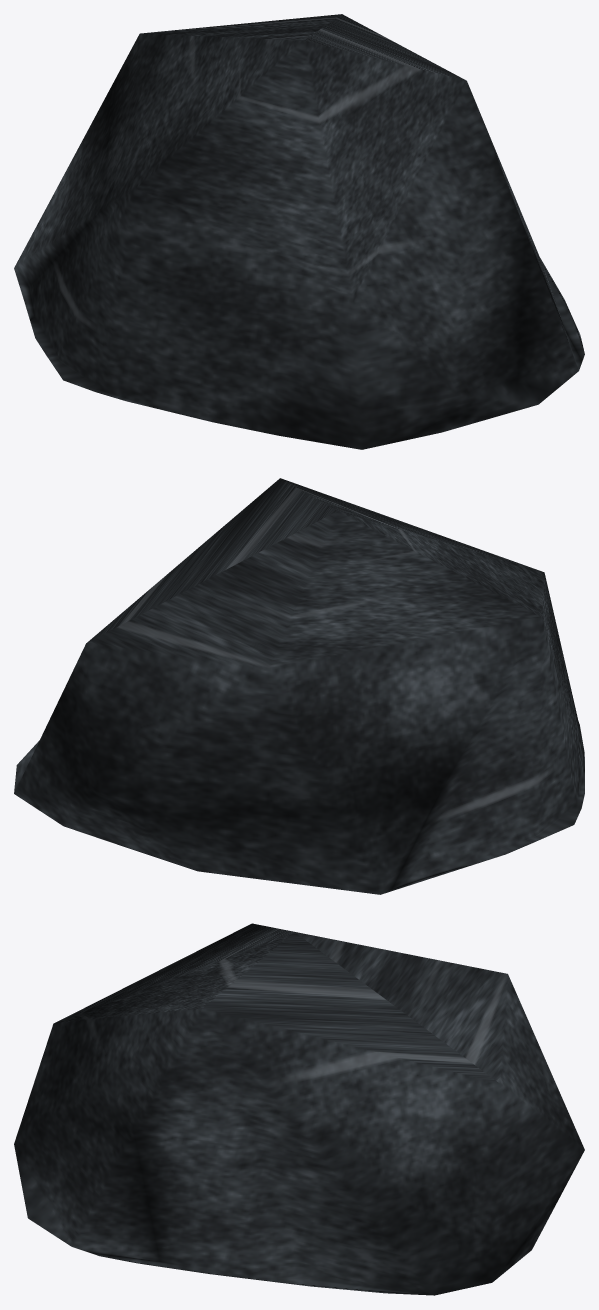
The model's file is rock_beach_wet_a_lod2.glb.
3 views of the same model, one above another, from view 1: azimuth 30°, elevation 25°; view 2: azimuth 150°, elevation 25°; view 3: azimuth 270°, elevation 25° (orthographic). The views are drawn at different scales.
Visible parts, largest first — view 1: rock_beach_wet_a; view 2: rock_beach_wet_a; view 3: rock_beach_wet_a.
Part boxes in pixels (<box>): rock_beach_wet_a: <box>14,14,584,449</box>; rock_beach_wet_a: <box>14,478,584,894</box>; rock_beach_wet_a: <box>14,923,584,1295</box>.
Size of the model in its own units: 1.69 by 0.8798 by 1.84.
Materials: 1 (1 with a texture image).
